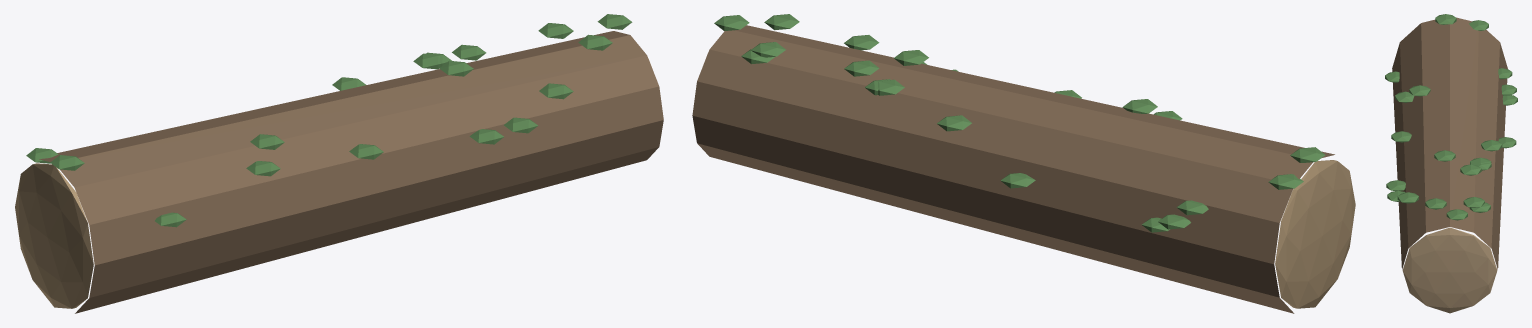
Rendered from log-02.glb.
The picture shows the model from 3 angles, left to right: view 1: azimuth 30°, elevation 25°; view 2: azimuth 150°, elevation 25°; view 3: azimuth 270°, elevation 25°; orthographic projection. The views are drawn at different scales.
Parts seen in each view (by area): view 1: part_000; view 2: part_000; view 3: part_000.
Part boxes in pixels (left/top/right/bottom): part_000: left=15, top=14, right=663, bottom=313; part_000: left=692, top=14, right=1355, bottom=313; part_000: left=1385, top=14, right=1517, bottom=313.
Bounding box in the file's own units: 1.94 × 0.4721 × 0.5278.
